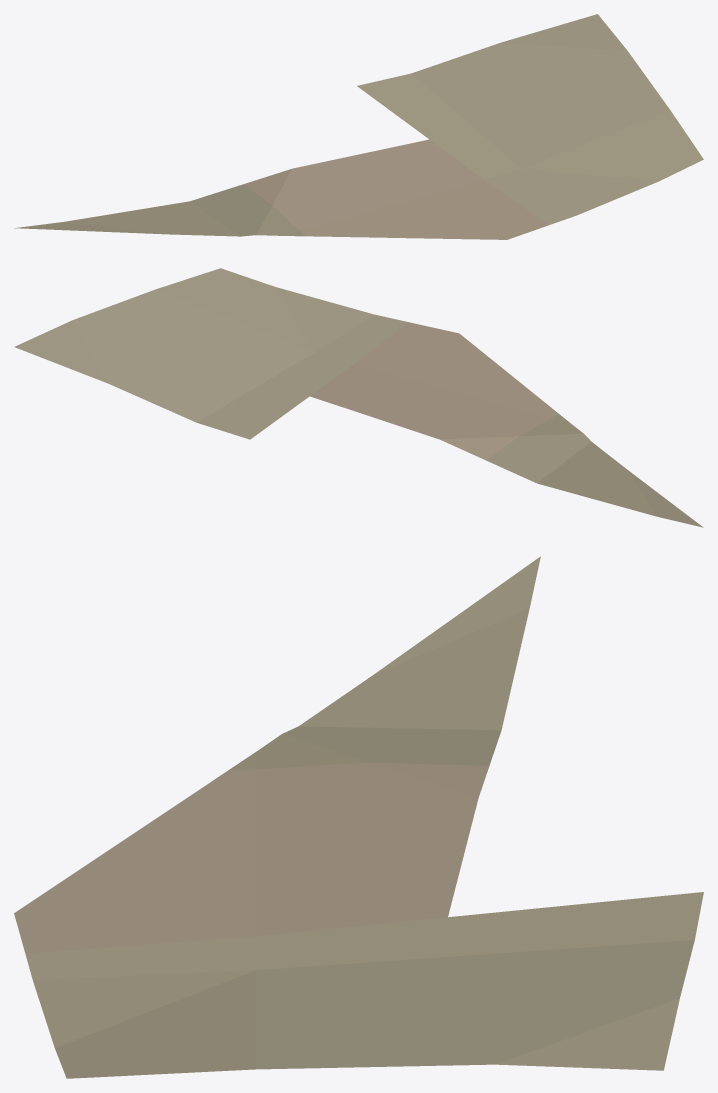
File: farm_-27_-26_soil.glb
3 renders of one model, top to bottom at view 1: azimuth 30°, elevation 25°; view 2: azimuth 150°, elevation 25°; view 3: azimuth 270°, elevation 25°, orthographic. The views are drawn at different scales.
Visible parts, largest first — view 1: geometry_0; view 2: geometry_0; view 3: geometry_0.
Part boxes in pixels (x1,y1,x2,y2): geometry_0: [14, 14, 703, 239]; geometry_0: [14, 268, 703, 527]; geometry_0: [14, 556, 703, 1078].
Size of the model in its own units: 182 by 13.61 by 88.88.
